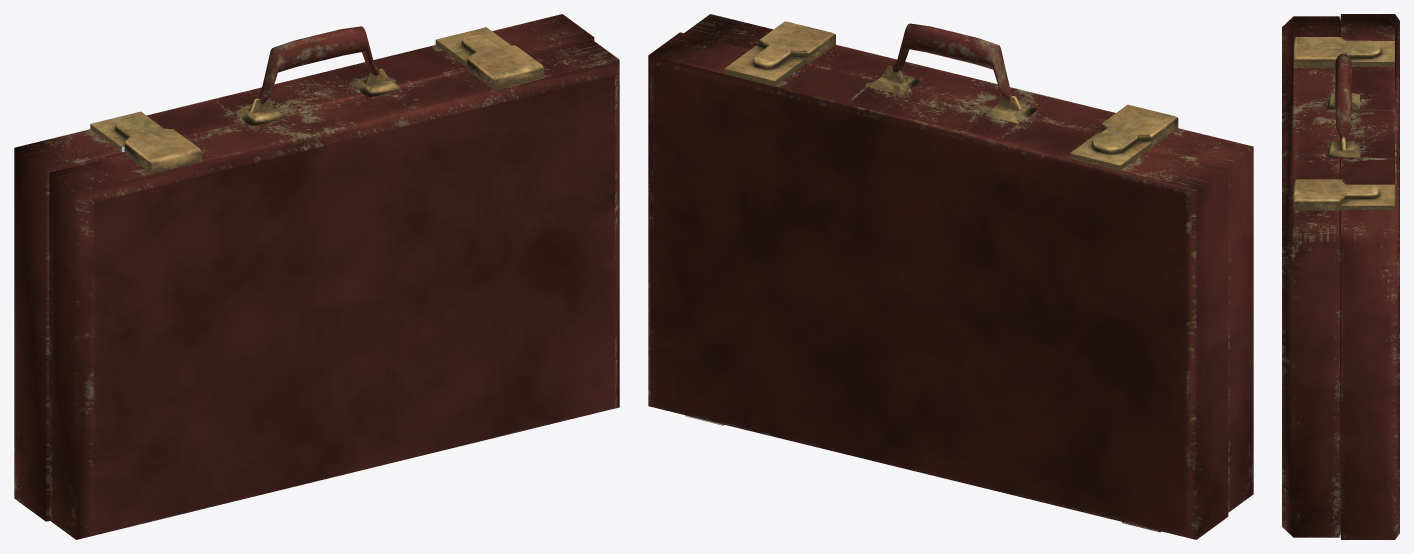
Rendered from nwst001.glb.
3 views of the same model, side by side, from view 1: azimuth 30°, elevation 25°; view 2: azimuth 150°, elevation 25°; view 3: azimuth 270°, elevation 25° (orthographic). The views are drawn at different scales.
Visible parts, largest first — view 1: Cylinder; view 2: Cylinder; view 3: Cylinder.
Boxes of the visible parts, x1=… form: Cylinder: x1=14, y1=14, x2=619, y2=539; Cylinder: x1=648, y1=14, x2=1253, y2=539; Cylinder: x1=1282, y1=14, x2=1399, y2=539.
Size of the model in its own units: 0.4518 by 0.3325 by 0.0989.
1 material, 1 textured.
